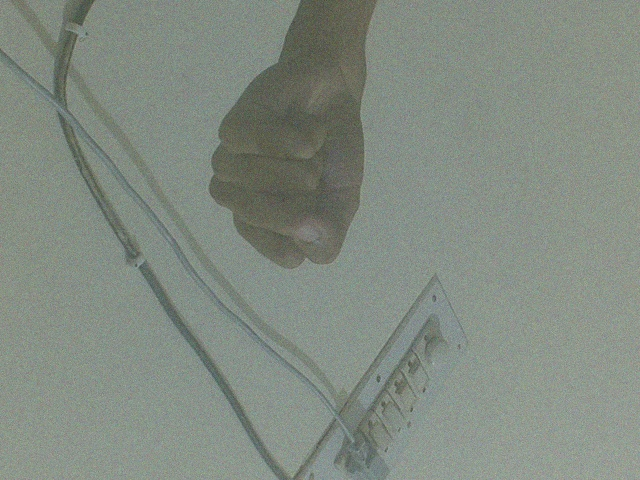hand: (201, 34, 375, 281)
